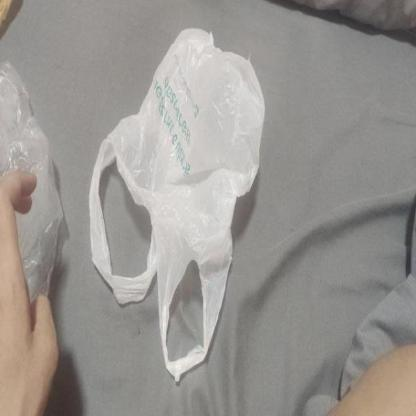Plastic Bag: (86, 24, 266, 388)
